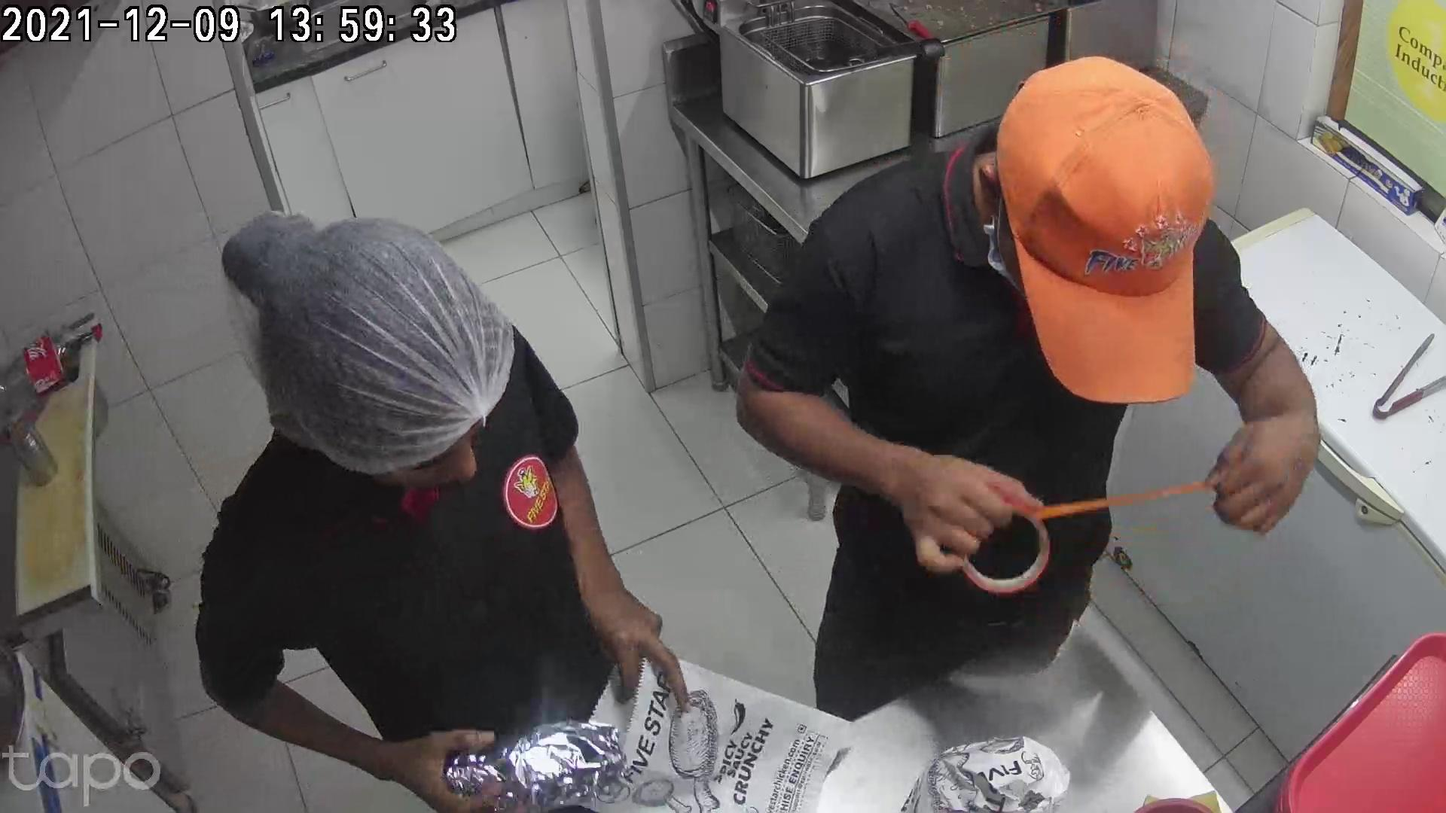no_gloves: (889, 449, 1013, 569)
